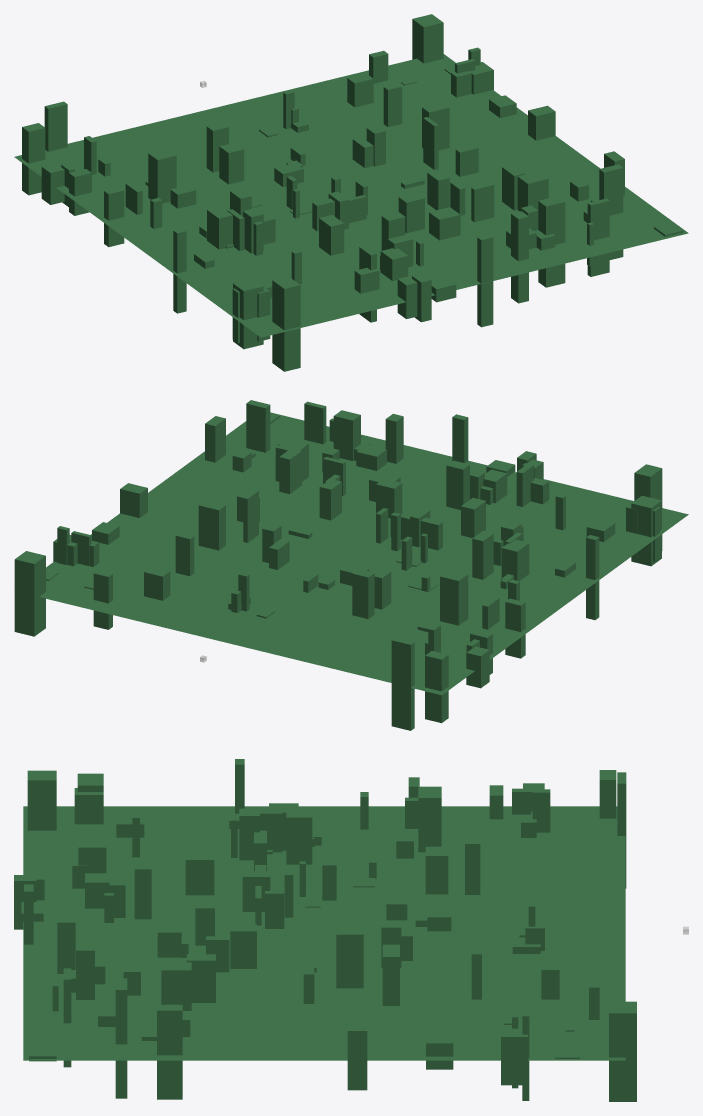
The model's file is city.gltf.
3 views of the same model, one above another, from view 1: azimuth 30°, elevation 25°; view 2: azimuth 150°, elevation 25°; view 3: azimuth 270°, elevation 25° (orthographic). The views are drawn at different scales.
Visible parts, largest first — view 1: Landscape; view 2: Landscape; view 3: Landscape.
Part boxes in pixels (x1,y1,x2,y2): Landscape: (14, 14, 688, 371); Landscape: (14, 400, 688, 730); Landscape: (14, 759, 636, 1101).
Bounding box in the file's own units: 1015 × 200 × 1121.
